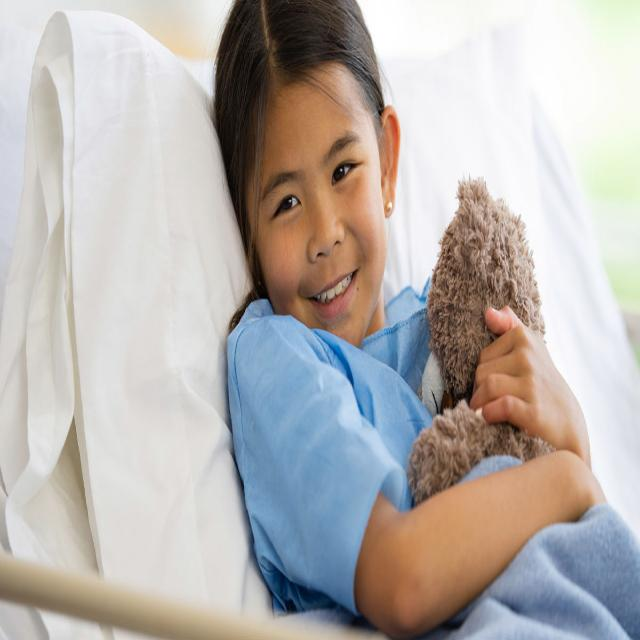child: (225, 0, 606, 628)
